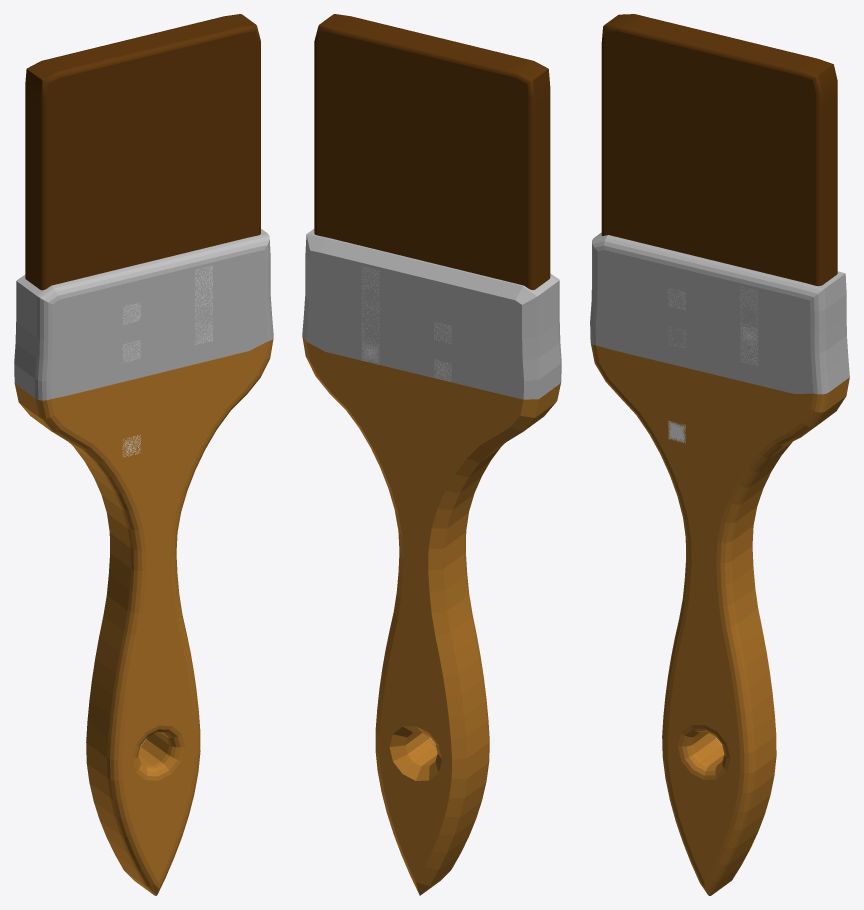
File: Paint Brush.obj
3 views of the same model, side by side, from view 1: azimuth 30°, elevation 25°; view 2: azimuth 150°, elevation 25°; view 3: azimuth 330°, elevation 25° (orthographic).
Parts seen in each view (by area): view 1: Connect.2, Cap_1_1, Extrude.1, Rounding_1_1, Cap_1; view 2: Connect.2, Cap_2_1, Extrude.1, Rounding_2_1, Cap_2, Rounding_1_1; view 3: Connect.2, Cap_1_1, Extrude.1, Rounding_1_1, Cap_1.
Boxes of the visible parts, box(x1,y1,x2,y2) form: Connect.2: box(14, 229, 273, 895); Cap_1_1: box(47, 31, 258, 288); Extrude.1: box(25, 14, 255, 289); Rounding_1_1: box(40, 25, 260, 290); Cap_1: box(122, 266, 212, 456); Connect.2: box(302, 229, 561, 895); Cap_2_1: box(317, 31, 528, 287); Extrude.1: box(319, 14, 549, 289); Rounding_2_1: box(314, 25, 534, 290); Cap_2: box(361, 266, 451, 381); Rounding_1_1: box(334, 14, 550, 278); Connect.2: box(590, 232, 849, 895); Cap_1_1: box(604, 31, 815, 285); Extrude.1: box(604, 14, 836, 284); Rounding_1_1: box(601, 25, 822, 286); Cap_1: box(668, 286, 758, 443).
Size of the model in its own units: 68.79 by 234 by 16.13.
